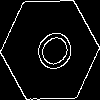O: (25, 25, 78, 82)
